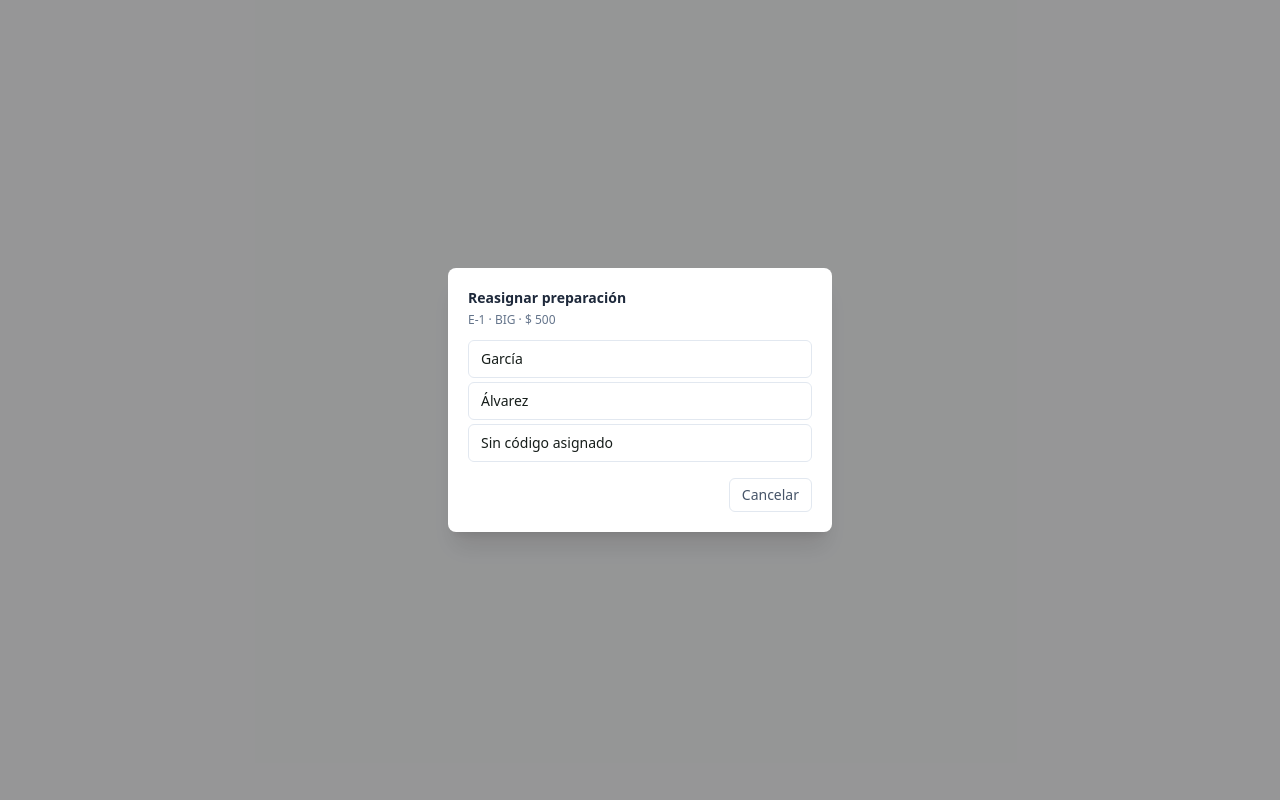
Test: MapaReasignarPanel › elegir un chofer de código distinto pide confirmación
This screenshot has width=1280, height=800.
Later steps or results of the test are not shown.
What coordinates should you click on to do the following:
click the button "García"
I would click on:
 (502, 358)
Its box is [468, 340, 812, 378].
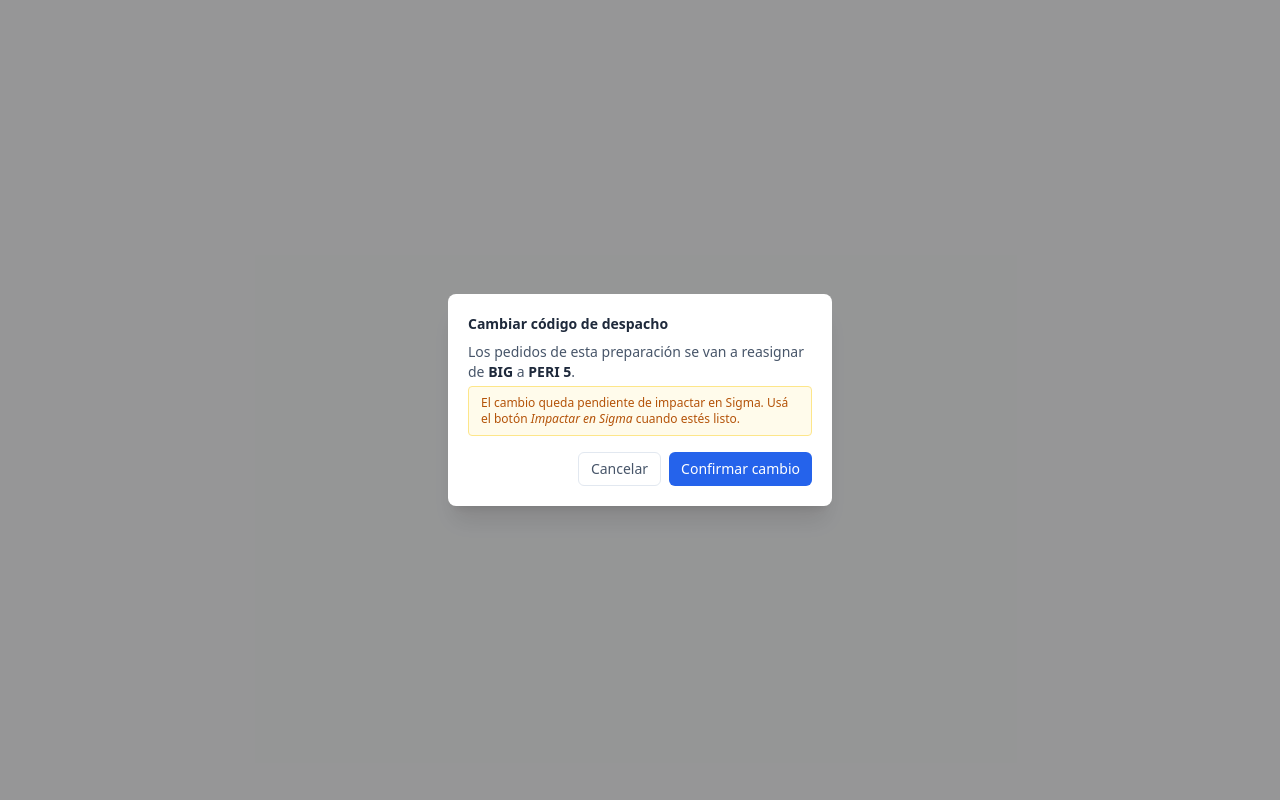
Result: the heading "Cambiar código de despacho" is shown at [468, 314, 668, 333]
